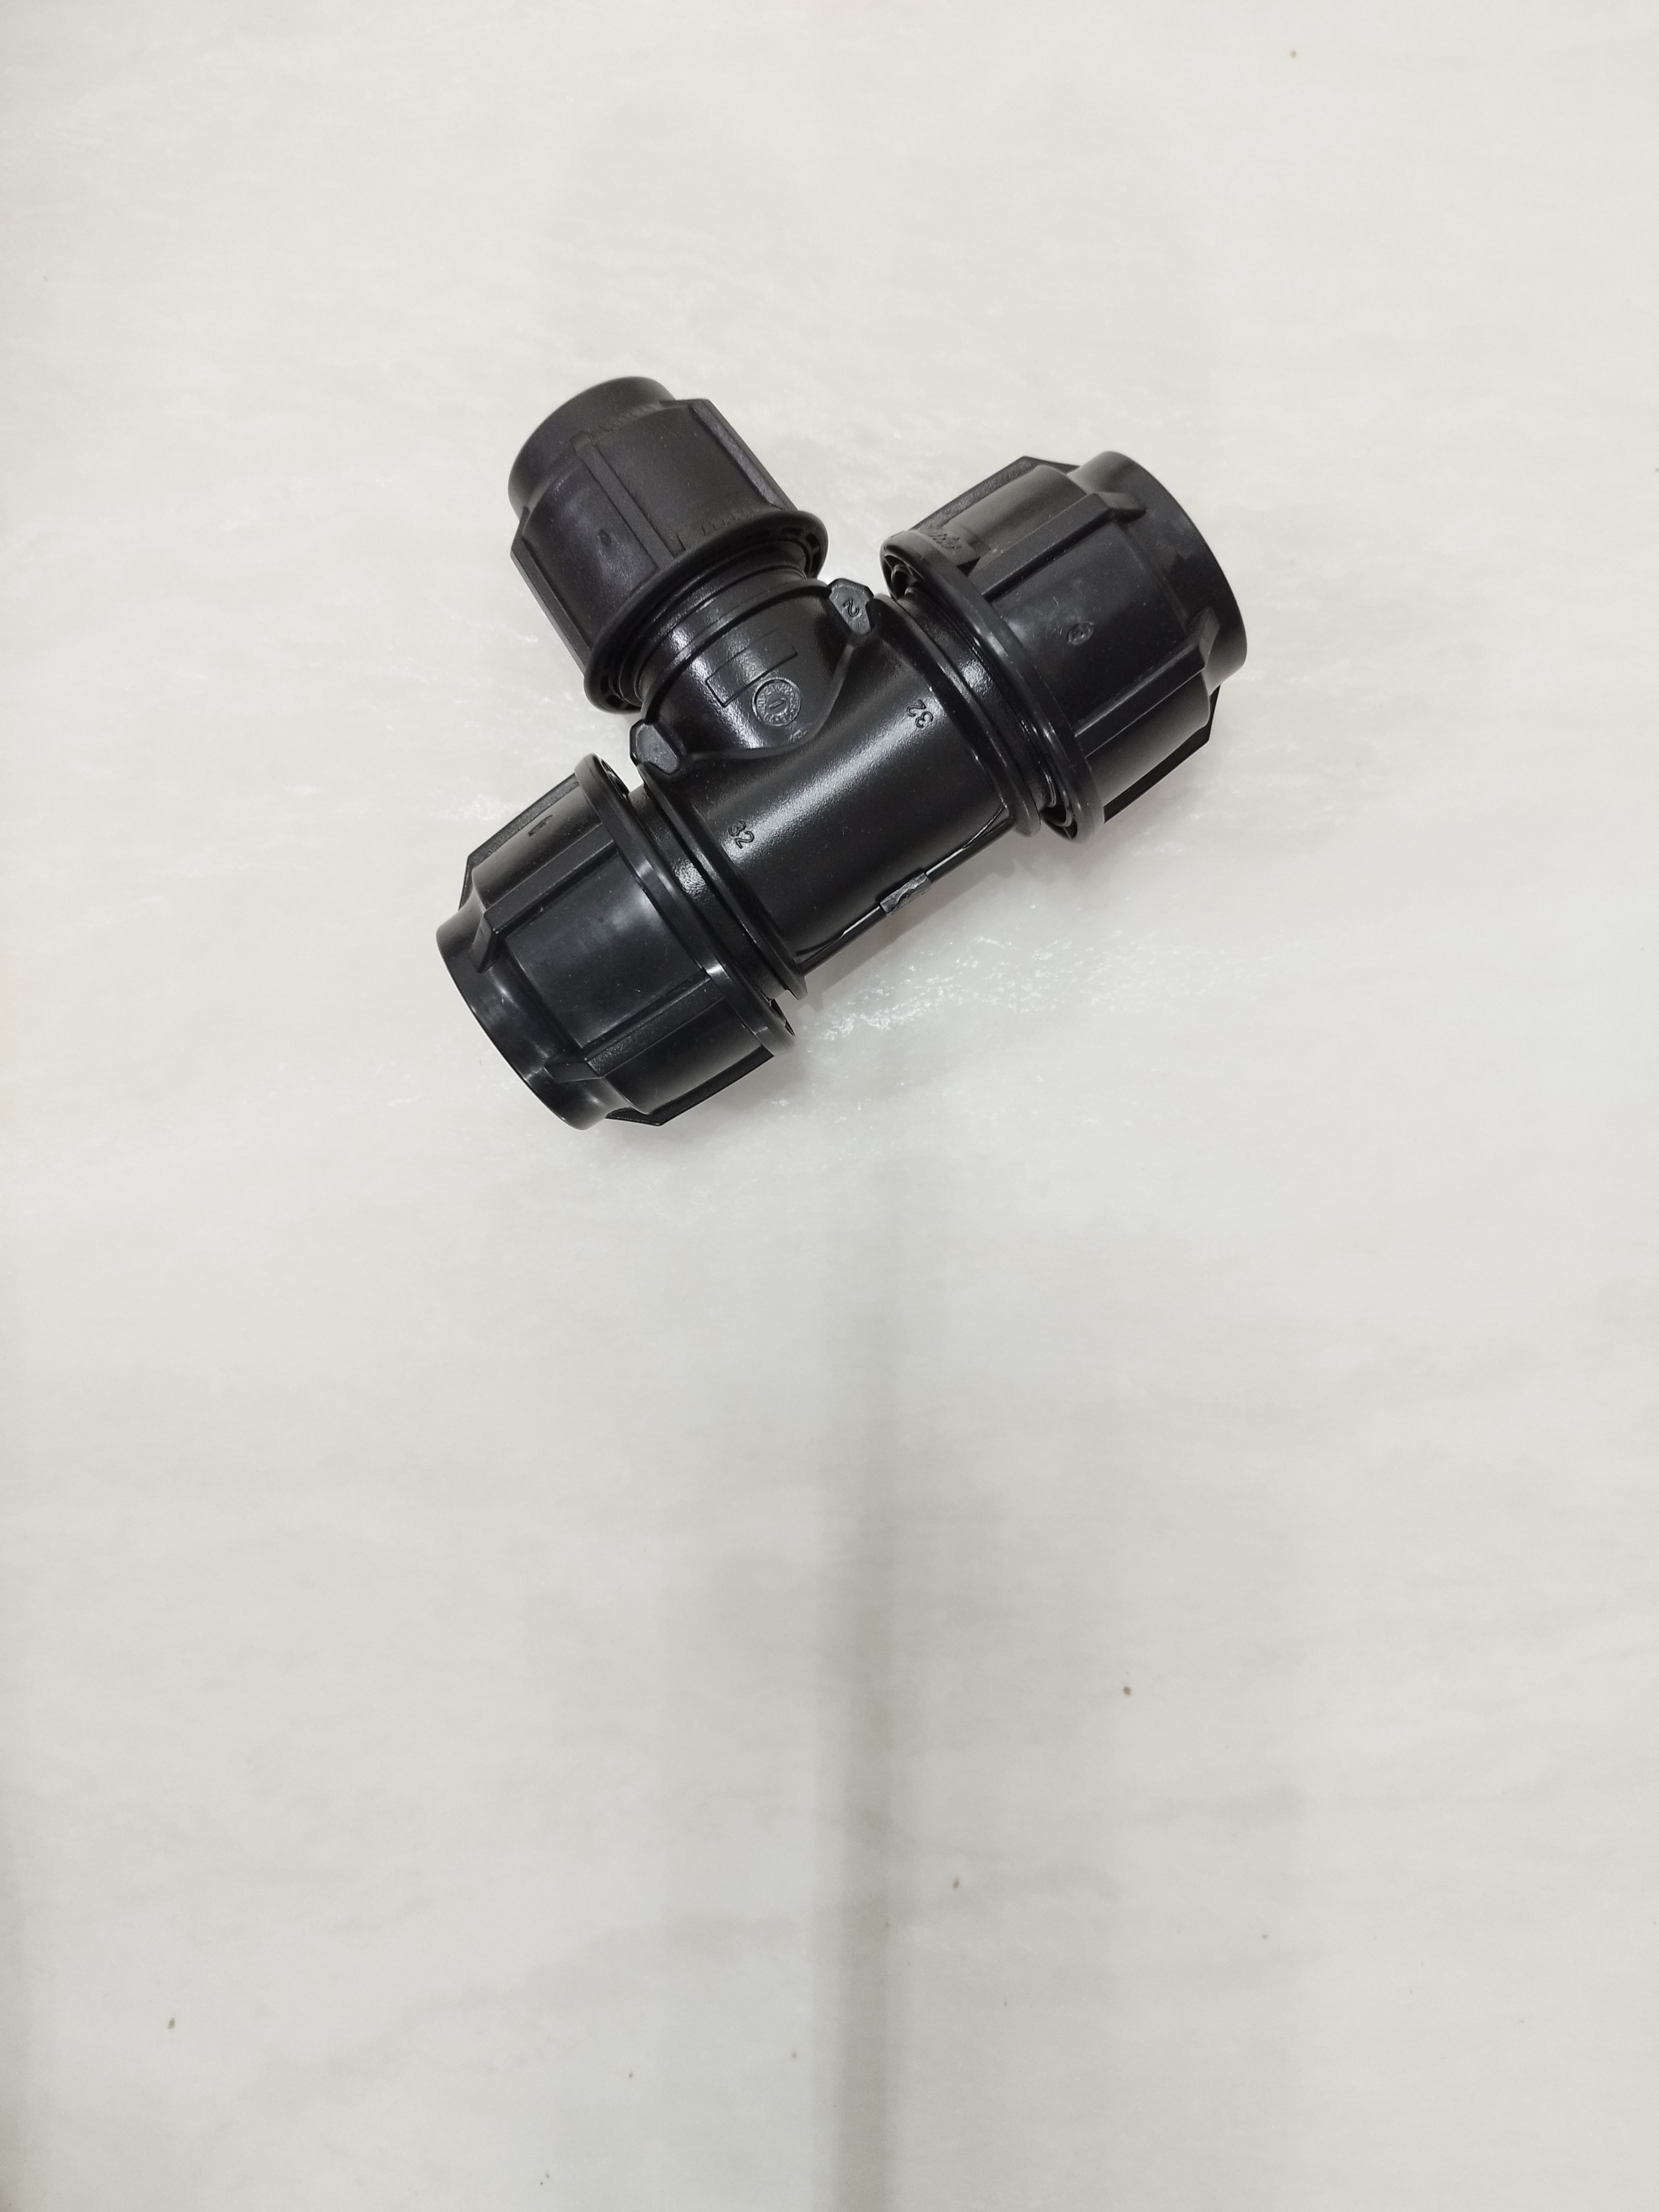plastic_tee_connector: (366, 310, 1276, 1200)
